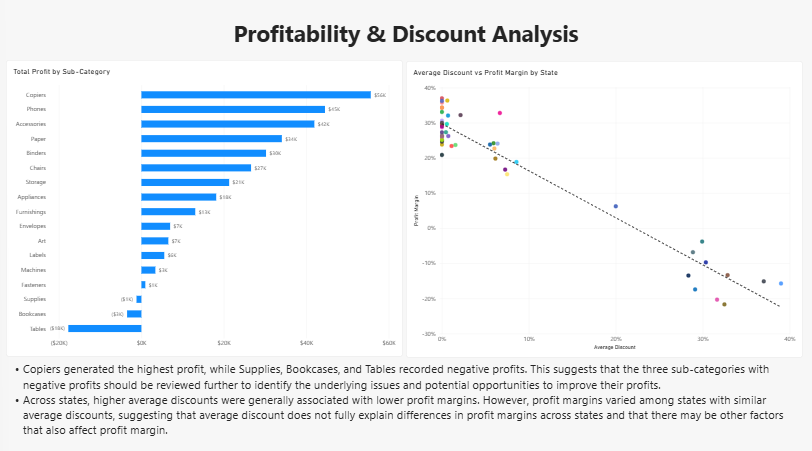

What the dashboard file says about the page in this screenshot:
{"tool":"powerbi","page":{"name":"Profitability & Discount","canvas":[1920,1080],"ordinal":1},"visuals":[{"type":"clusteredBarChart","title":"Total Profit by Sub-Category","fields":{"Category":["Fact_OrderLines_Clean.Sub-Category"],"Y":["Fact_OrderLines_Clean.Total Profit"]},"box":[17.5,145,936,700],"z":0},{"type":"textbox","box":[0,42.5,1920,102.5],"z":1000},{"type":"scatterChart","title":"Average Discount vs Profit Margin by State","fields":{"Series":["Fact_OrderLines_Clean.State"],"X":["Fact_OrderLines_Clean.Average Discount"],"Y":["Fact_OrderLines_Clean.Profit Margin"]},"box":[960,146.7,936,700],"z":2000},{"type":"textbox","box":[17.5,855,1877.5,202.5],"z":3000}]}

Visuals, with their boxes in screenshot pixels (x1, y1, x2, y2), scaled from the page's 1920x1080 canvas onto the 812x451 screenshot:
"Total Profit by Sub-Category" clusteredBarChart: Rect(7, 61, 403, 353)
textbox: Rect(0, 18, 811, 61)
"Average Discount vs Profit Margin by State" scatterChart: Rect(406, 61, 802, 354)
textbox: Rect(7, 357, 801, 442)
